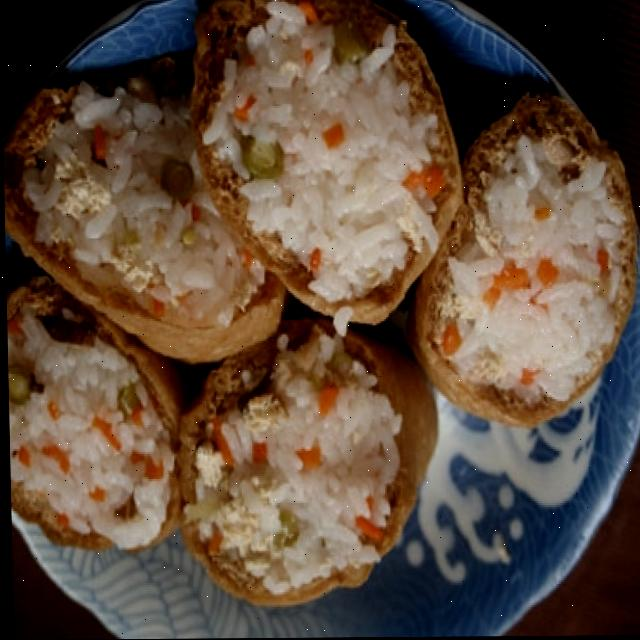寿司卷物: (0, 0, 634, 613)
